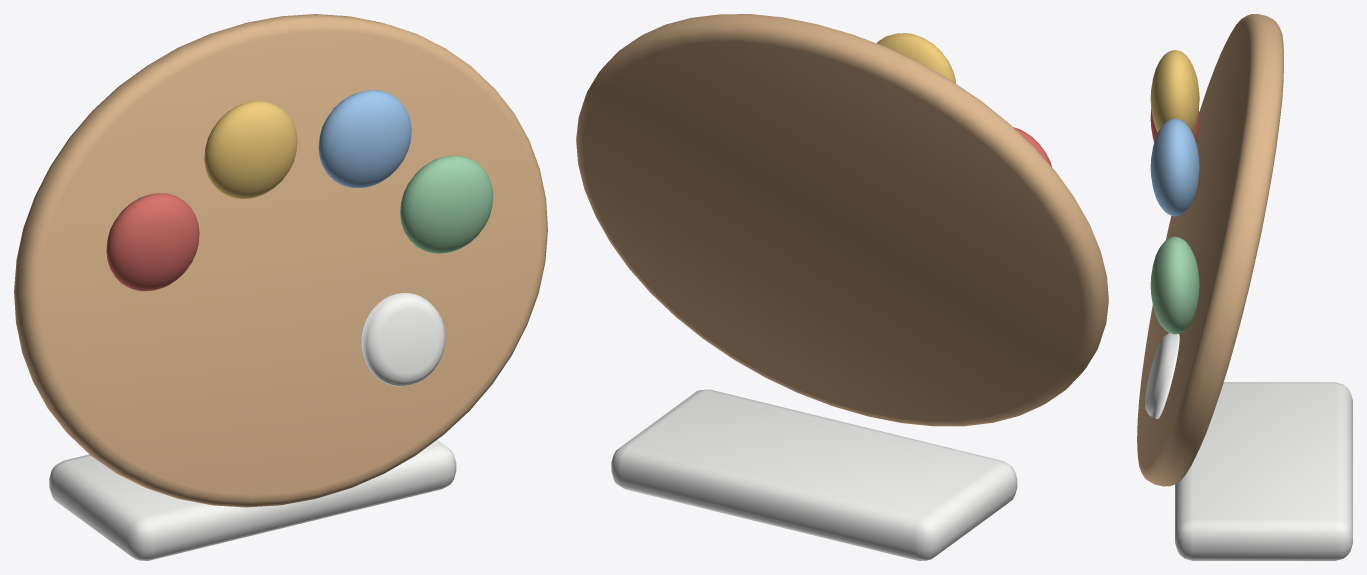
Rendered from products--palette.glb.
3 views of the same model, side by side, from view 1: azimuth 30°, elevation 25°; view 2: azimuth 150°, elevation 25°; view 3: azimuth 270°, elevation 25° (orthographic). The views are drawn at different scales.
Parts seen in each view (by area): view 1: products--palette; view 2: products--palette; view 3: products--palette.
Boxes of the visible parts, x1,y1,x2,y2 form: products--palette: (14, 14, 547, 560); products--palette: (576, 14, 1108, 560); products--palette: (1137, 14, 1352, 560).
Bounding box in the file's own units: 0.6401 × 0.5522 × 0.2427.
